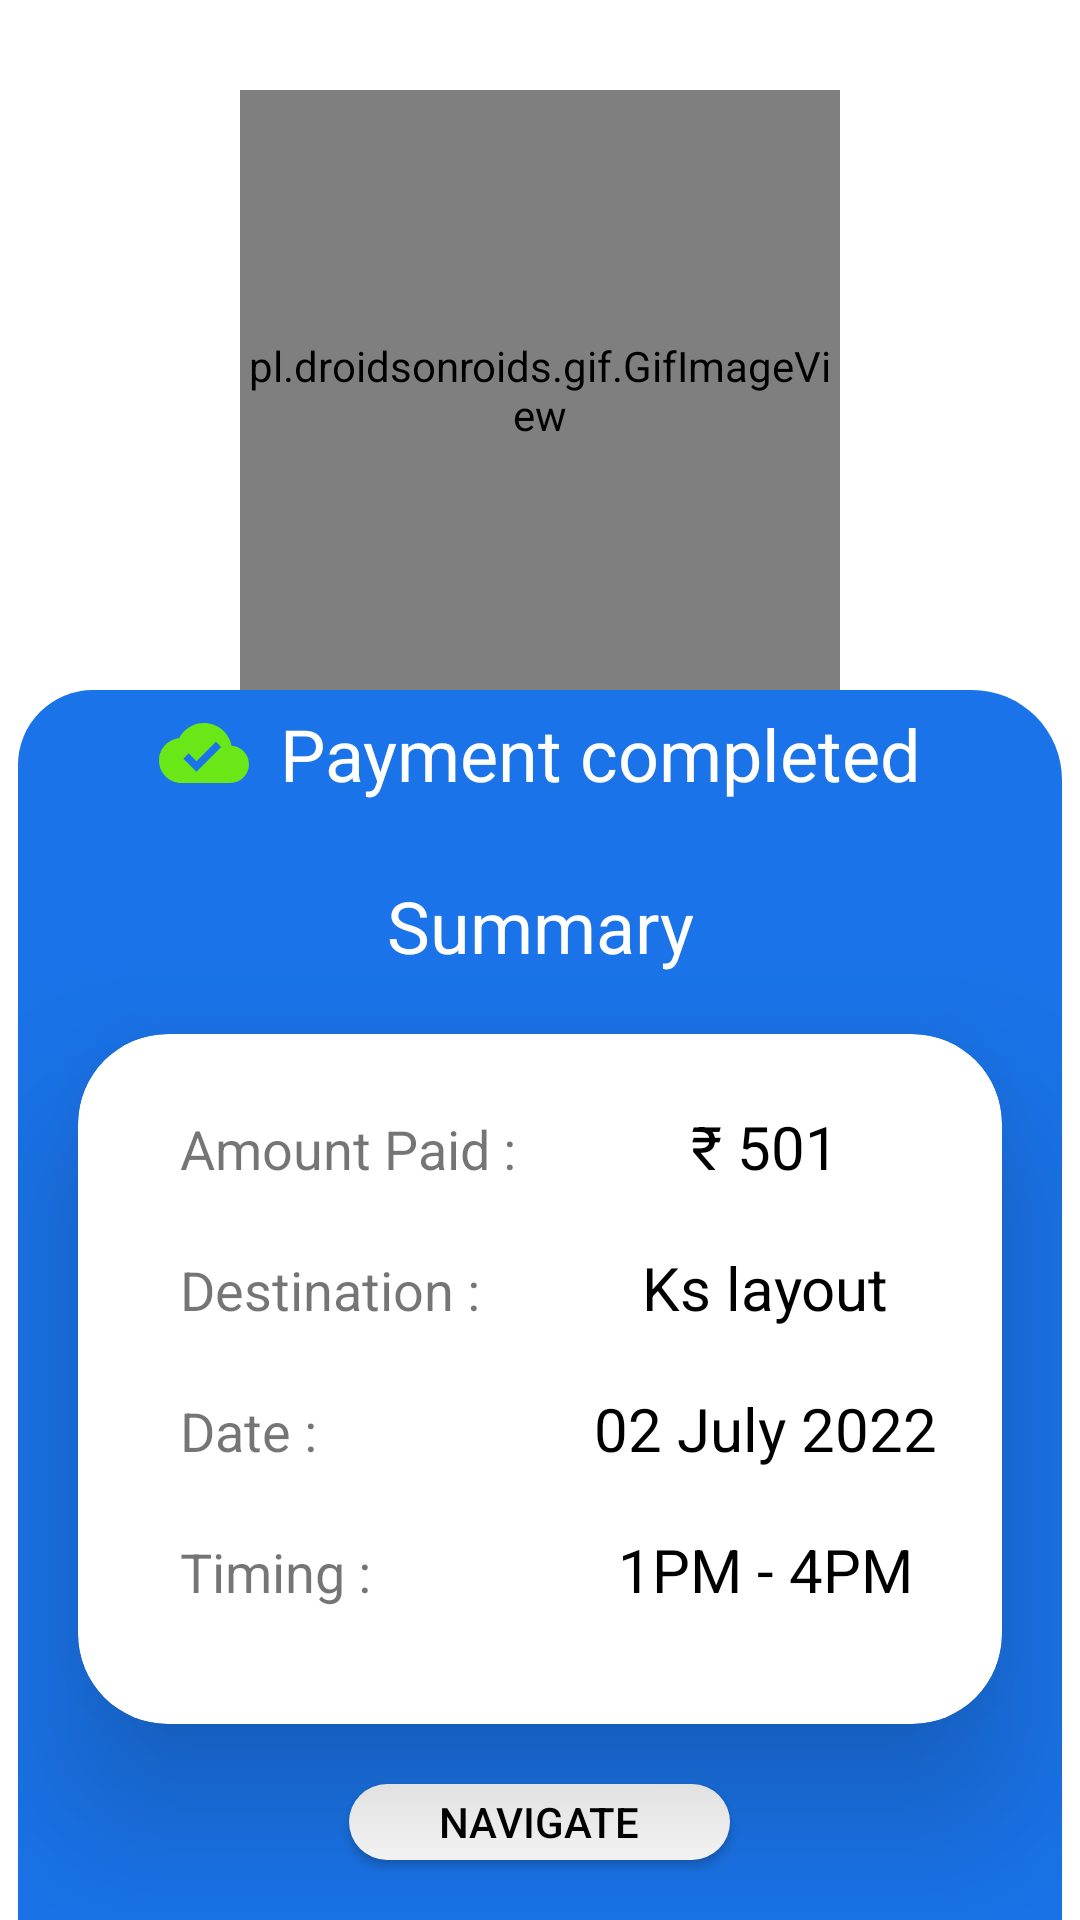

Icons on this 1080w x 1920h Android screen, each with its box as bbox=[x1, y1, x2, y2]:
cloud done: bbox=[159, 723, 249, 783]
